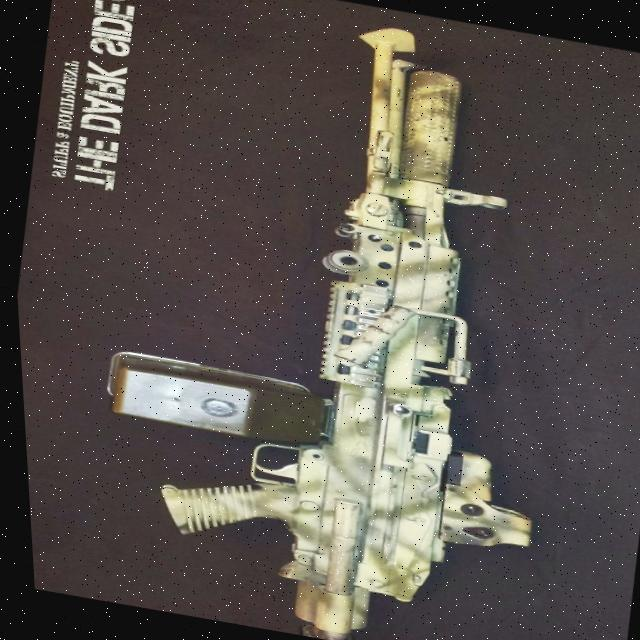firearm: (105, 0, 613, 640)
